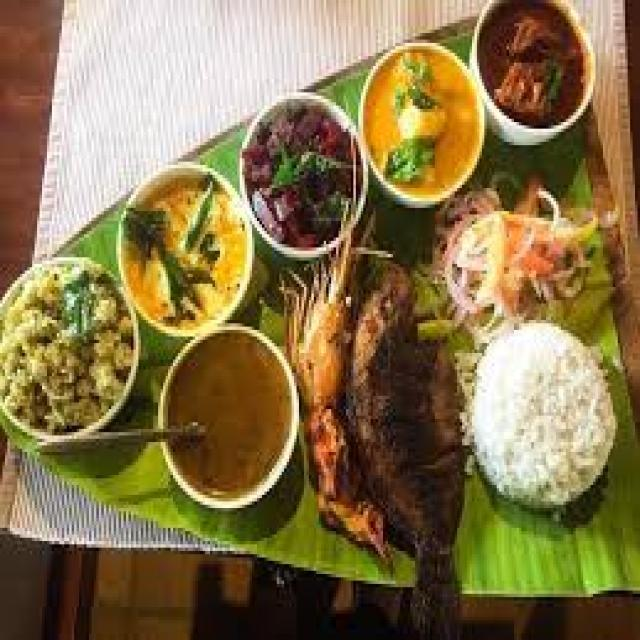dal: (355, 43, 484, 205)
pickle: (473, 4, 594, 132)
rice: (461, 319, 627, 509)
sambar-rasam: (161, 326, 292, 495)
veg-fry: (0, 255, 137, 438), (112, 173, 252, 339)
